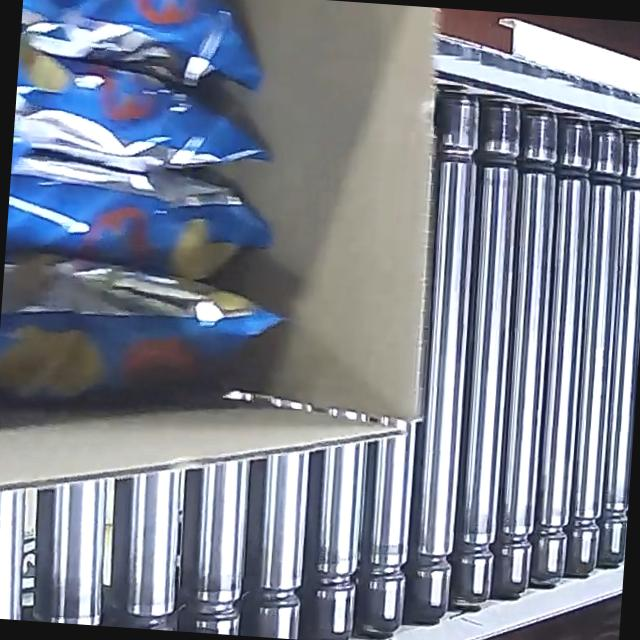paprika: (0, 0, 309, 402)
